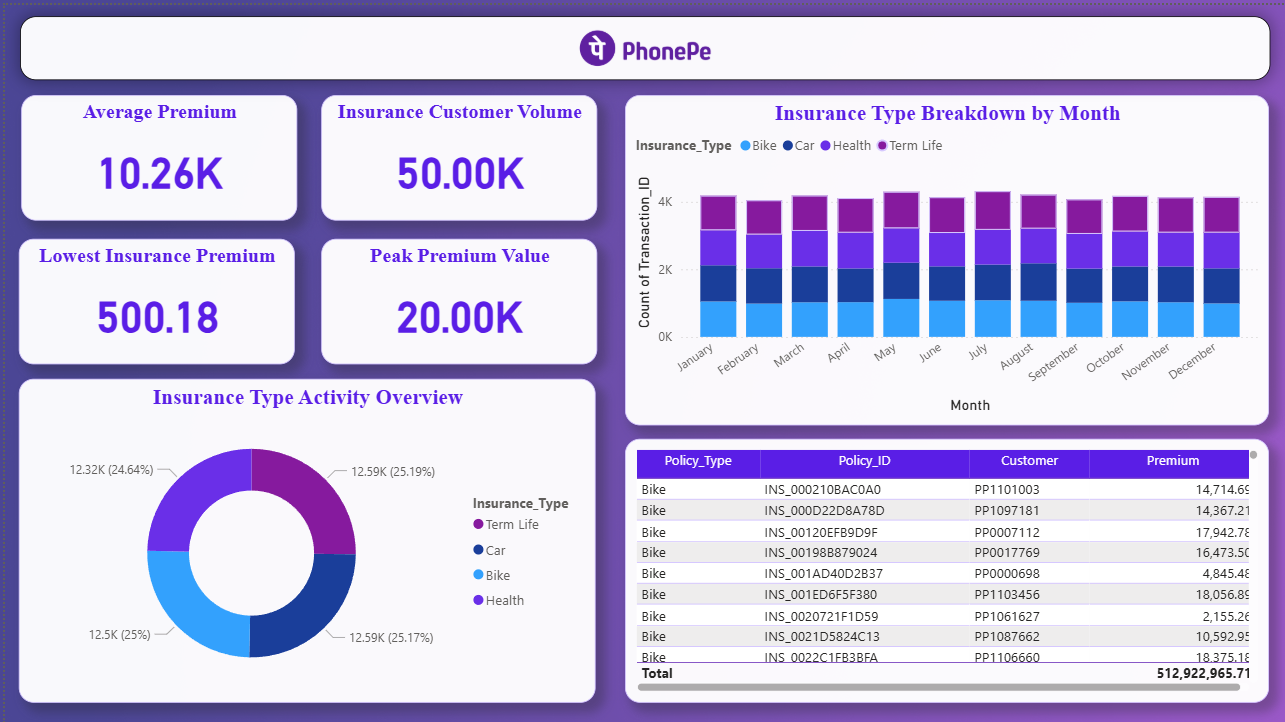

Layout of this report page (visuals, bound fields, positions):
{"tool":"powerbi","page":{"name":"Page 2","canvas":[1280,720],"ordinal":1},"visuals":[{"type":"card","title":"Average Premium","fields":{"Values":["Avg(Insurance.Premium)"]},"box":[15.7,90,275.7,125.7],"z":0},{"type":"card","title":"Insurance Customer Volume","fields":{"Values":["CountNonNull(Insurance.User_ID)"]},"box":[315.7,90,275.7,125.7],"z":1000},{"type":"card","title":"Lowest Insurance Premium","fields":{"Values":["Min(Insurance.Premium)"]},"box":[14.3,234.3,275.7,125.7],"z":2000},{"type":"card","title":"Peak Premium Value","fields":{"Values":["Max(Insurance.Premium)"]},"box":[315.7,234.3,275.7,125.7],"z":3000},{"type":"columnChart","title":"Insurance Type Breakdown by Month","fields":{"Category":["Insurance.Date.Variation.Date Hierarchy.Month"],"Series":["Insurance.Insurance_Type"],"Y":["CountNonNull(Insurance.Transaction_ID)"]},"box":[620,90,644.3,330],"z":4000},{"type":"donutChart","title":"Insurance Type Activity Overview","fields":{"Category":["Insurance.Insurance_Type"],"Y":["CountNonNull(Insurance.Transaction_ID)"]},"box":[14.3,374.3,577.1,324.3],"z":5000},{"type":"tableEx","fields":{"Values":["Insurance.Insurance_Type","Insurance.Transaction_ID","Insurance.User_ID","Sum(Insurance.Premium)"]},"box":[621.2,442.7,644.4,264.1],"z":6000},{"type":"image","box":[14.5,11.6,1250.7,63.8],"z":7000}]}

Visuals, with their boxes in screenshot pixels (x1, y1, x2, y2), scaled from the page's 1280x720 canvas onto the 1285x722 screenshot:
"Average Premium" card: (left=16, top=90, right=293, bottom=216)
"Insurance Customer Volume" card: (left=317, top=90, right=594, bottom=216)
"Lowest Insurance Premium" card: (left=14, top=235, right=291, bottom=361)
"Peak Premium Value" card: (left=317, top=235, right=594, bottom=361)
"Insurance Type Breakdown by Month" columnChart: (left=622, top=90, right=1269, bottom=421)
"Insurance Type Activity Overview" donutChart: (left=14, top=375, right=594, bottom=701)
tableEx - Insurance.Insurance_Type x Insurance.Transaction_ID: (left=624, top=444, right=1271, bottom=709)
image: (left=15, top=12, right=1270, bottom=76)
